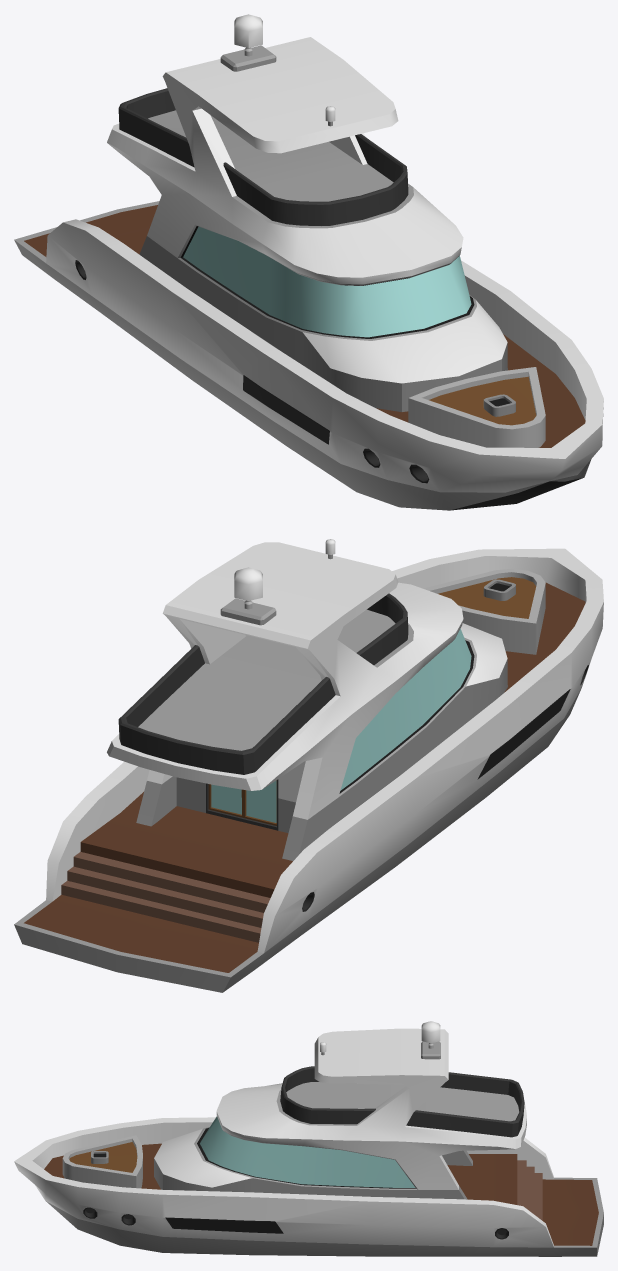
The model's file is SM_Vehicles_ Yacht.fbx.
3 views of the same model, one above another, from view 1: azimuth 30°, elevation 25°; view 2: azimuth 150°, elevation 25°; view 3: azimuth 270°, elevation 25° (orthographic). The views are drawn at different scales.
Parts seen in each view (by area): view 1: SM_Vehicles_ Yacht; view 2: SM_Vehicles_ Yacht; view 3: SM_Vehicles_ Yacht.
Boxes of the visible parts, left/top/right/bottom form: SM_Vehicles_ Yacht: left=14, top=14, right=603, bottom=510; SM_Vehicles_ Yacht: left=14, top=539, right=603, bottom=992; SM_Vehicles_ Yacht: left=14, top=1021, right=603, bottom=1256.
Bounding box in the file's own units: 5.99 × 7.64 × 18.64.
